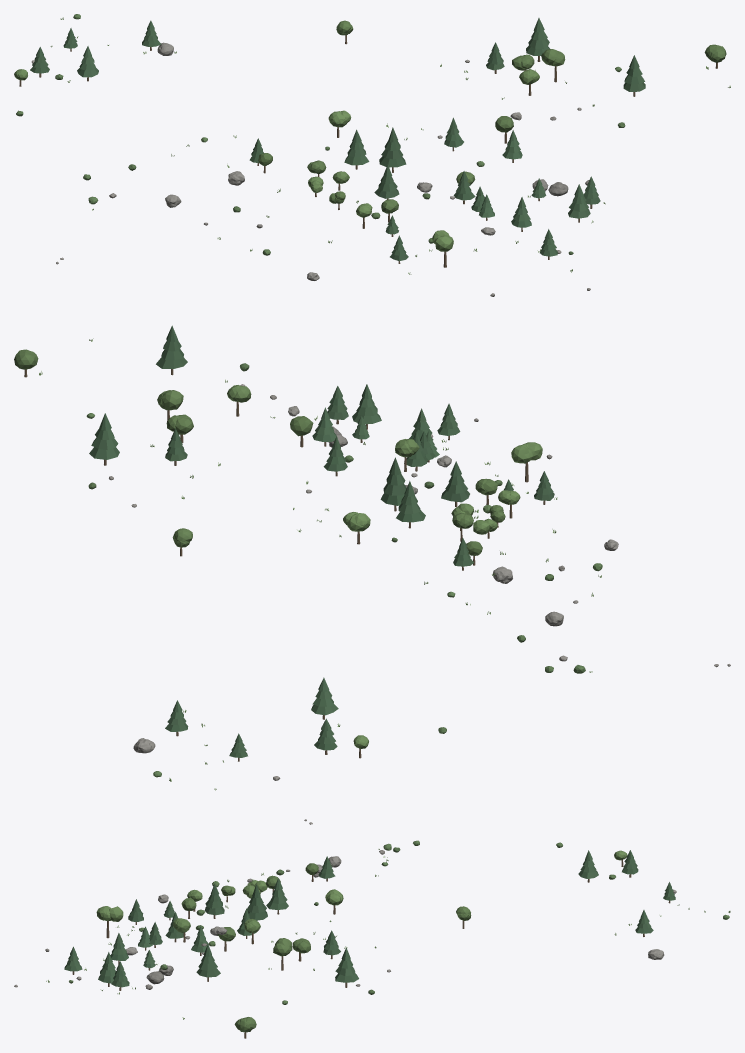
File: arch_land_scatter_c21_22.glb
3 views of the same model, one above another, from view 1: azimuth 30°, elevation 25°; view 2: azimuth 150°, elevation 25°; view 3: azimuth 270°, elevation 25° (orthographic). The views are drawn at different scales.
Visible parts, largest first — view 1: arch_land_scatter_c21_22; view 2: arch_land_scatter_c21_22; view 3: arch_land_scatter_c21_22.
Boxes of the visible parts, x1,y1,x2,y2 form: arch_land_scatter_c21_22: (14, 14, 730, 296); arch_land_scatter_c21_22: (14, 325, 730, 790); arch_land_scatter_c21_22: (14, 819, 730, 1038).
Bounding box in the file's own units: 202 × 38.08 × 216.
